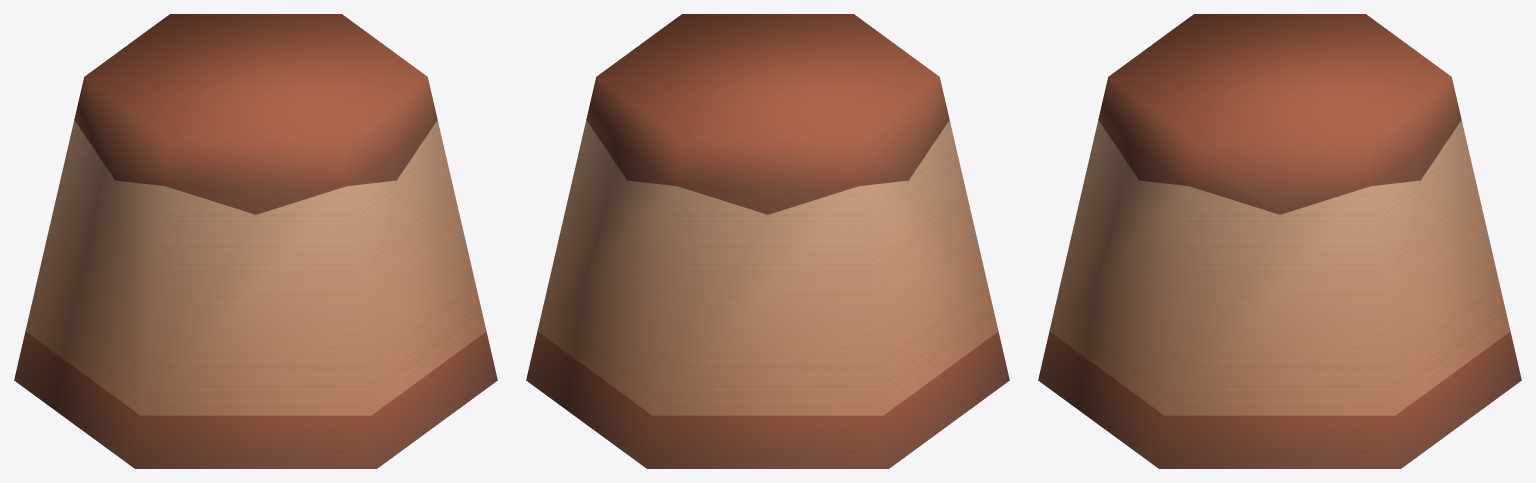
File: pudding.glb
3 views of the same model, side by side, from view 1: azimuth 30°, elevation 25°; view 2: azimuth 150°, elevation 25°; view 3: azimuth 270°, elevation 25° (orthographic).
Visible parts, largest first — view 1: pudding; view 2: pudding; view 3: pudding.
Part boxes in pixels (x1,y1,x2,y2): pudding: (14,14,497,468); pudding: (526,14,1009,468); pudding: (1038,14,1521,468).
Size of the model in its own units: 0.2499 by 0.1998 by 0.2886.
Materials: 1 (1 with a texture image).
